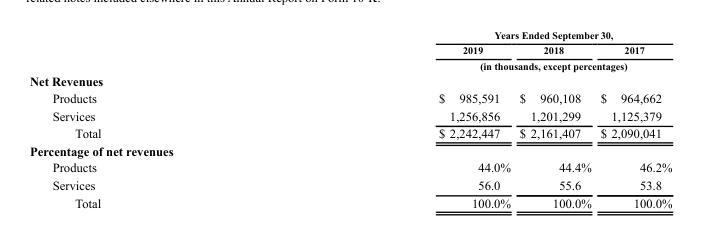table: (28, 29, 671, 209)
table column: (269, 29, 514, 209), (28, 29, 269, 209), (514, 29, 595, 209), (595, 29, 671, 209)
table column header: (28, 29, 671, 72)
table projected row header: (28, 72, 671, 89), (28, 141, 671, 158)
table row: (28, 106, 671, 124), (28, 158, 671, 176), (28, 72, 671, 89), (28, 89, 671, 106), (28, 124, 671, 141), (28, 141, 671, 158), (28, 176, 671, 193), (28, 193, 671, 209), (28, 42, 671, 57), (28, 57, 671, 72), (28, 29, 671, 42)
table spanning cell: (269, 57, 671, 72), (269, 29, 671, 42)
